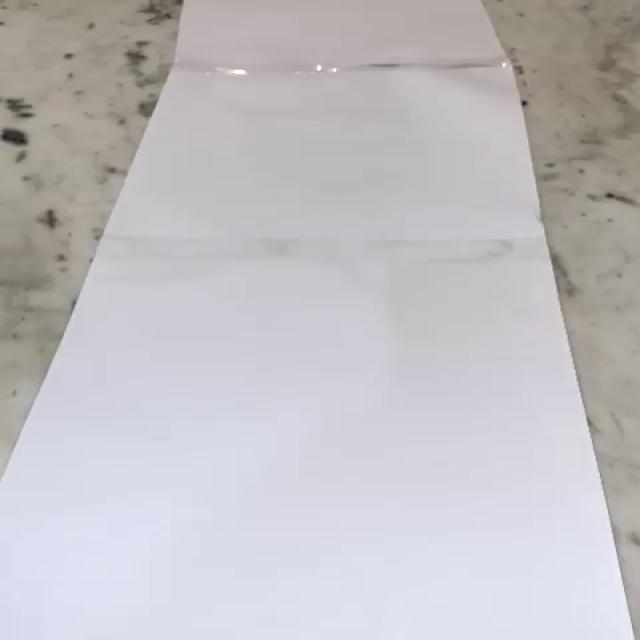road: (3, 0, 633, 640)
